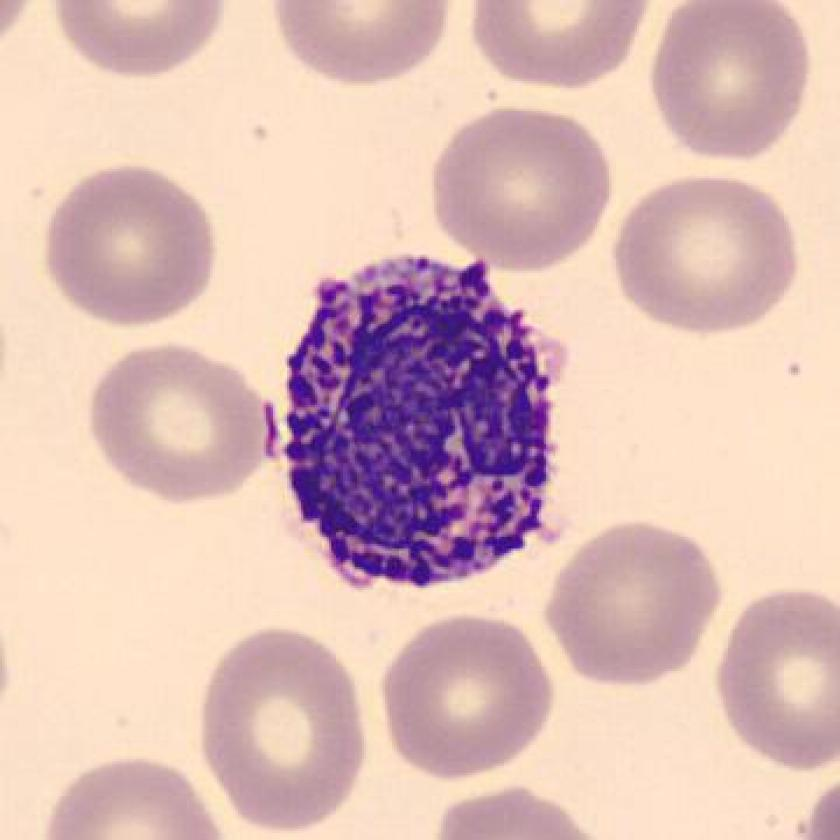basophil: (260, 240, 566, 601)
